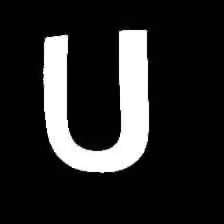LTR_U: (28, 22, 157, 173)
